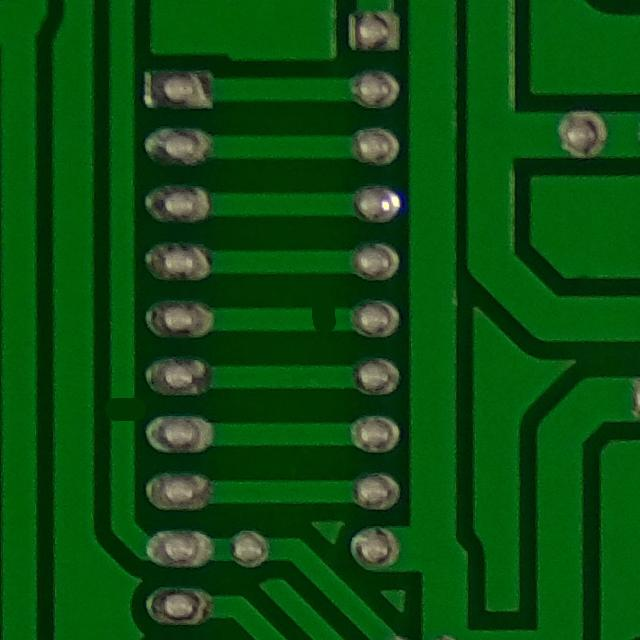open_circuit: (291, 301, 349, 340)
